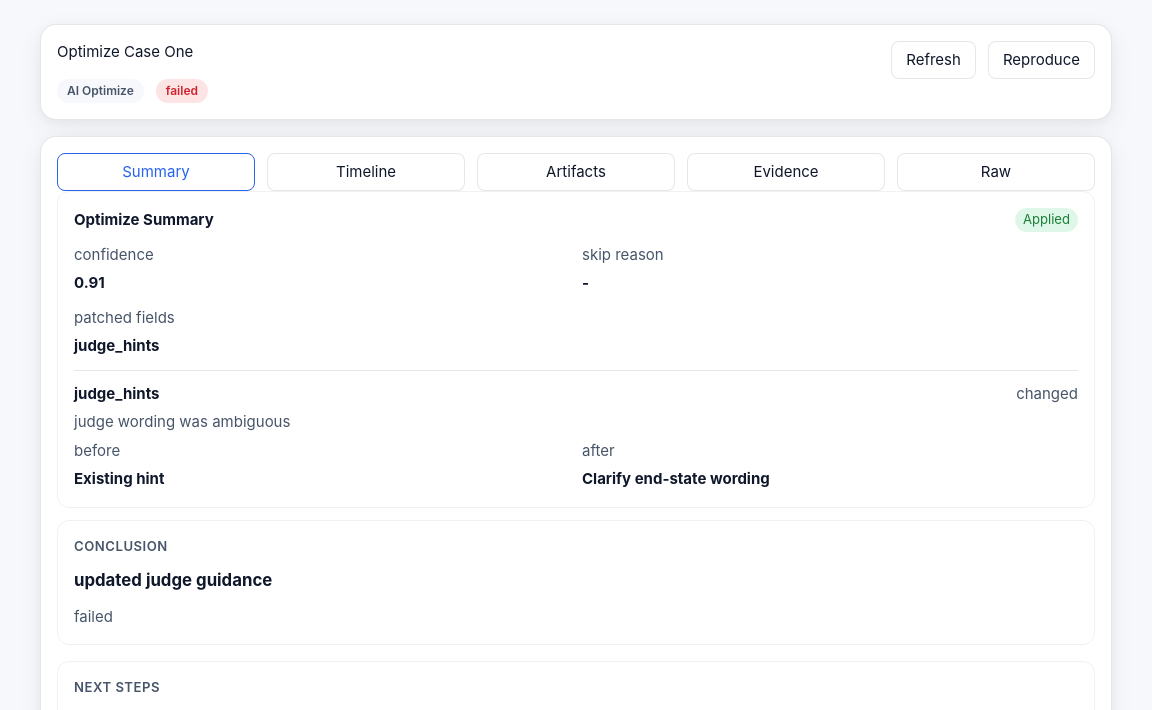
Test case: RunDetailPage › renders optimize summary with field diffs
Click the button "Artifacts".
click(576, 172)  # box [477,153,675,191]
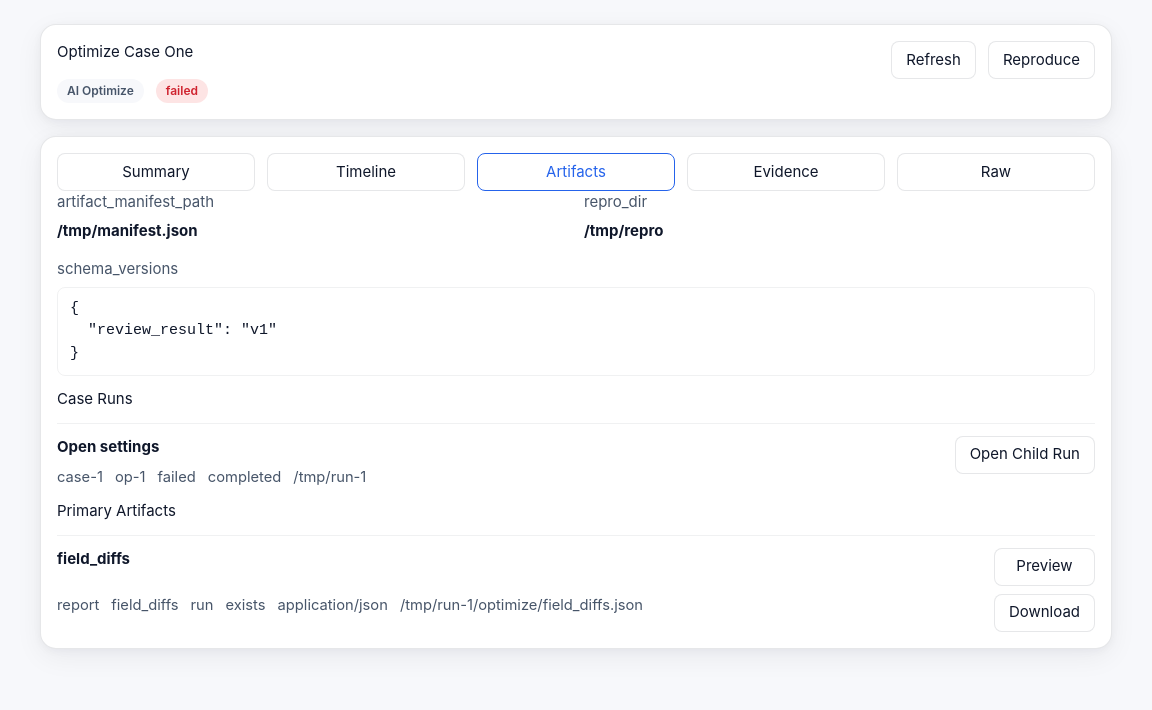
expect the text "field_diffs" is shown: met, box [57,549,130,568]
expect the text "/tmp/run-1/optimize/field_diffs.json" is shown: met, box [400,596,643,614]
